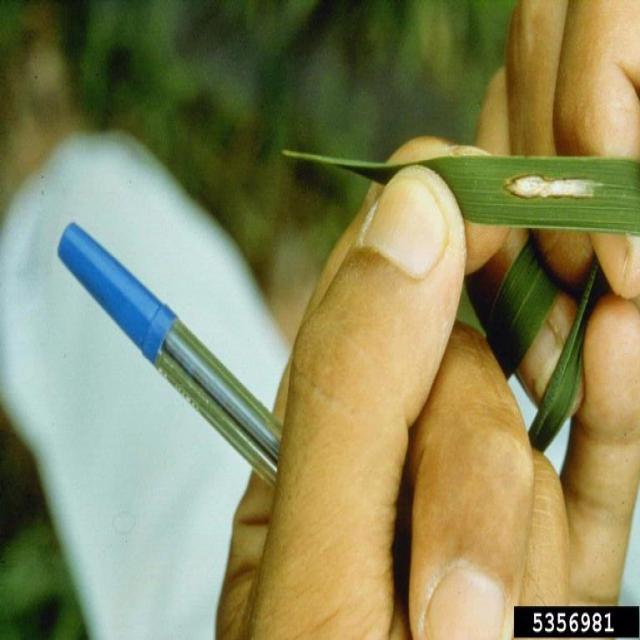Leaf blast: (500, 166, 630, 204)
